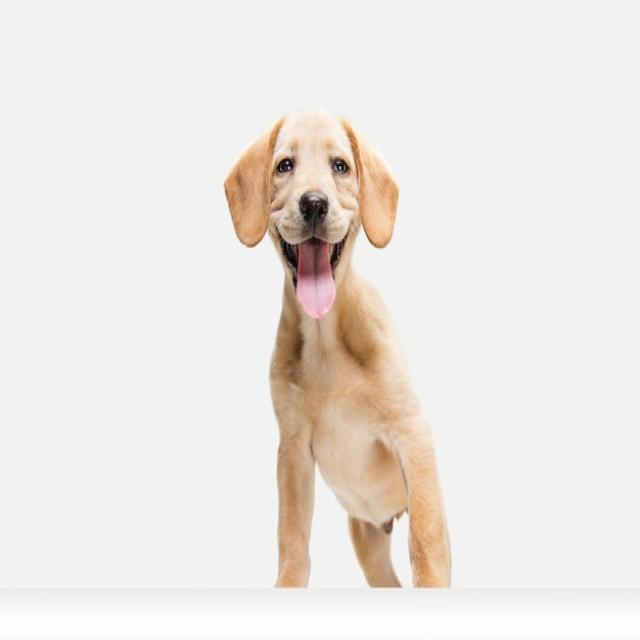Dog: (224, 110, 451, 592)
